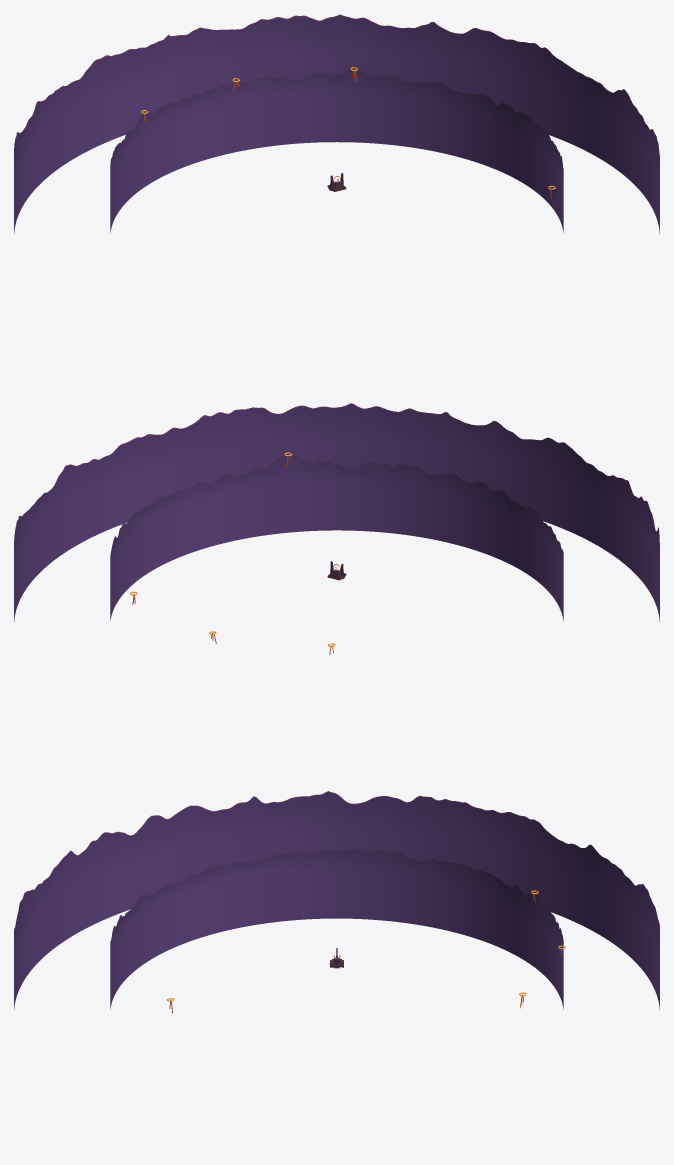
File: sacrifices.glb
The picture shows the model from 3 angles, top to bottom: view 1: azimuth 30°, elevation 25°; view 2: azimuth 150°, elevation 25°; view 3: azimuth 270°, elevation 25°; orthographic projection.
Parts seen in each view (by area): view 1: horizon-far, horizon-near; view 2: horizon-far, horizon-near; view 3: horizon-far, horizon-near.
Boxes of the visible parts, bbox=[...] form: horizon-far: bbox=[14, 14, 659, 233]; horizon-near: bbox=[110, 67, 563, 232]; horizon-far: bbox=[14, 403, 659, 622]; horizon-near: bbox=[110, 452, 563, 654]; horizon-far: bbox=[14, 791, 659, 1009]; horizon-near: bbox=[110, 848, 565, 1013].
Bounding box in the file's own units: 470 × 70 × 470.
